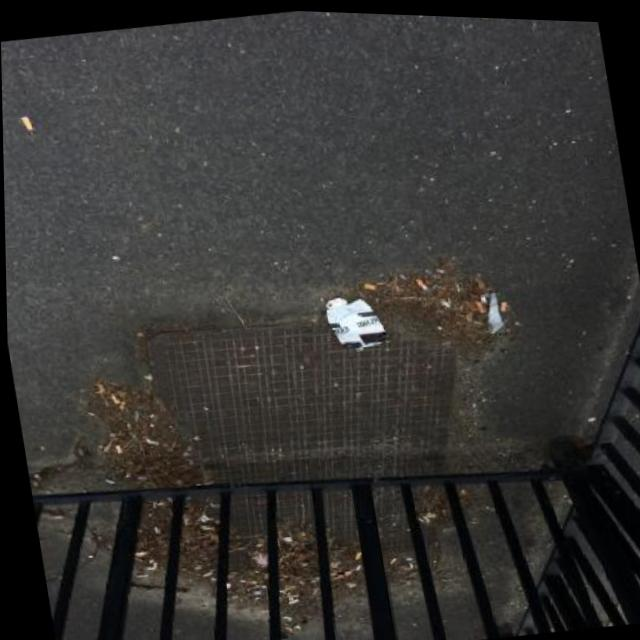metal: (323, 290, 391, 356)
